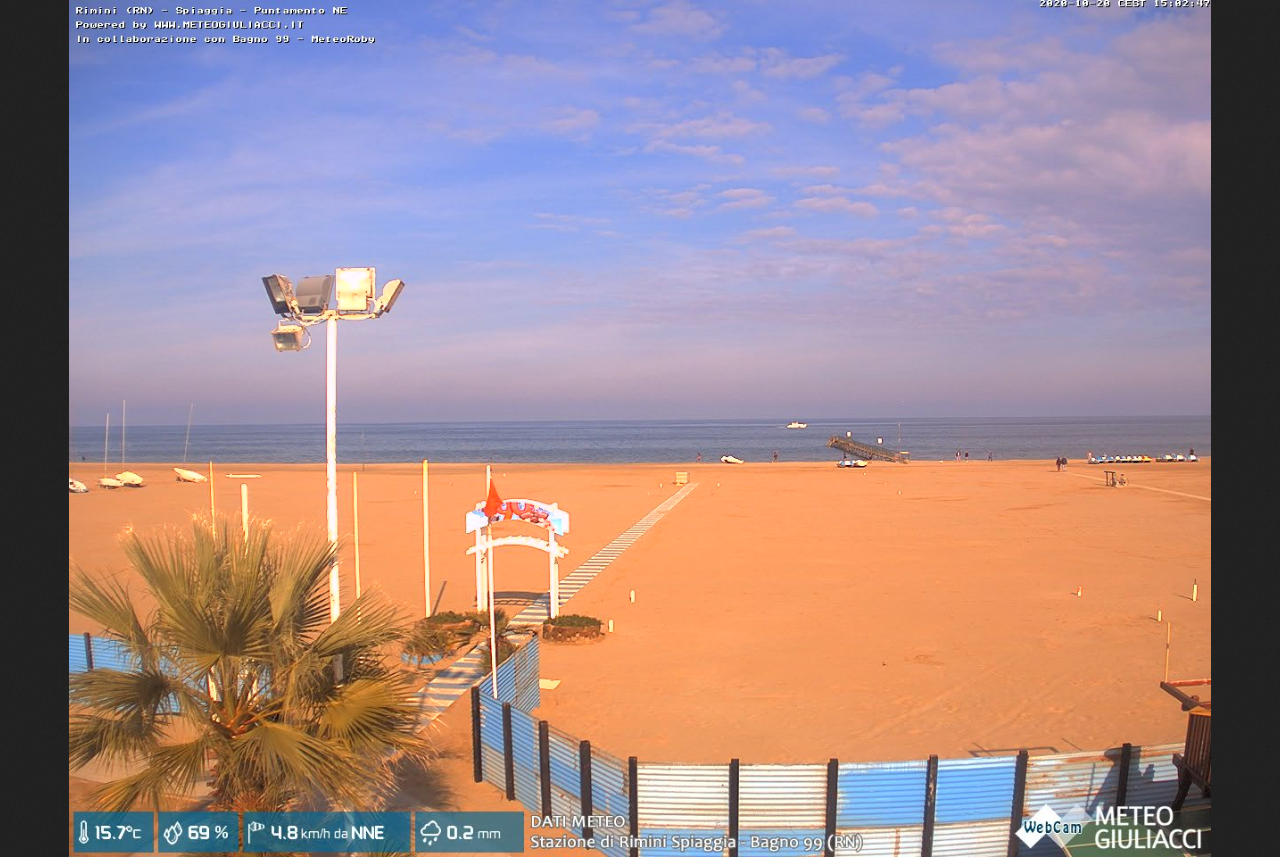maybe: (478, 475, 504, 521)
